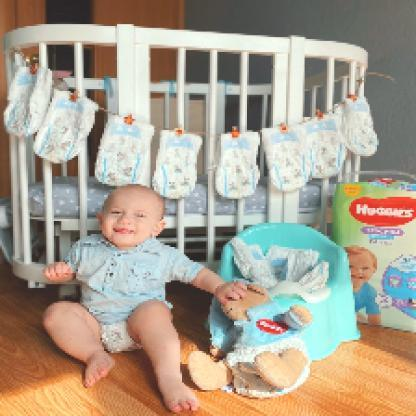child: (42, 183, 250, 414)
